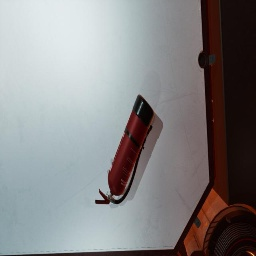FireExtinguisher ]: (95, 94, 154, 204)
